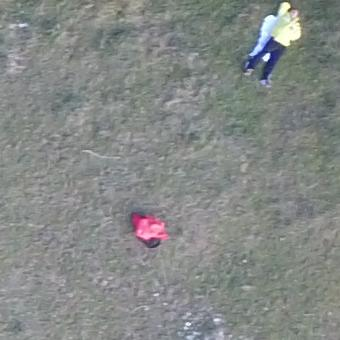human: (241, 5, 310, 85)
